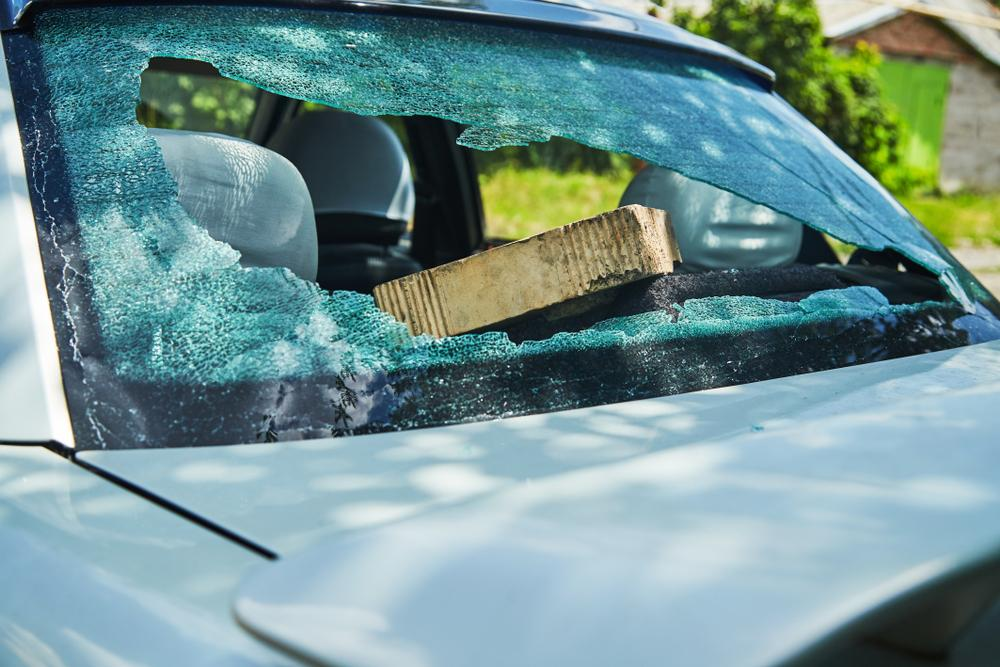glass shatter: (4, 0, 1000, 450)
